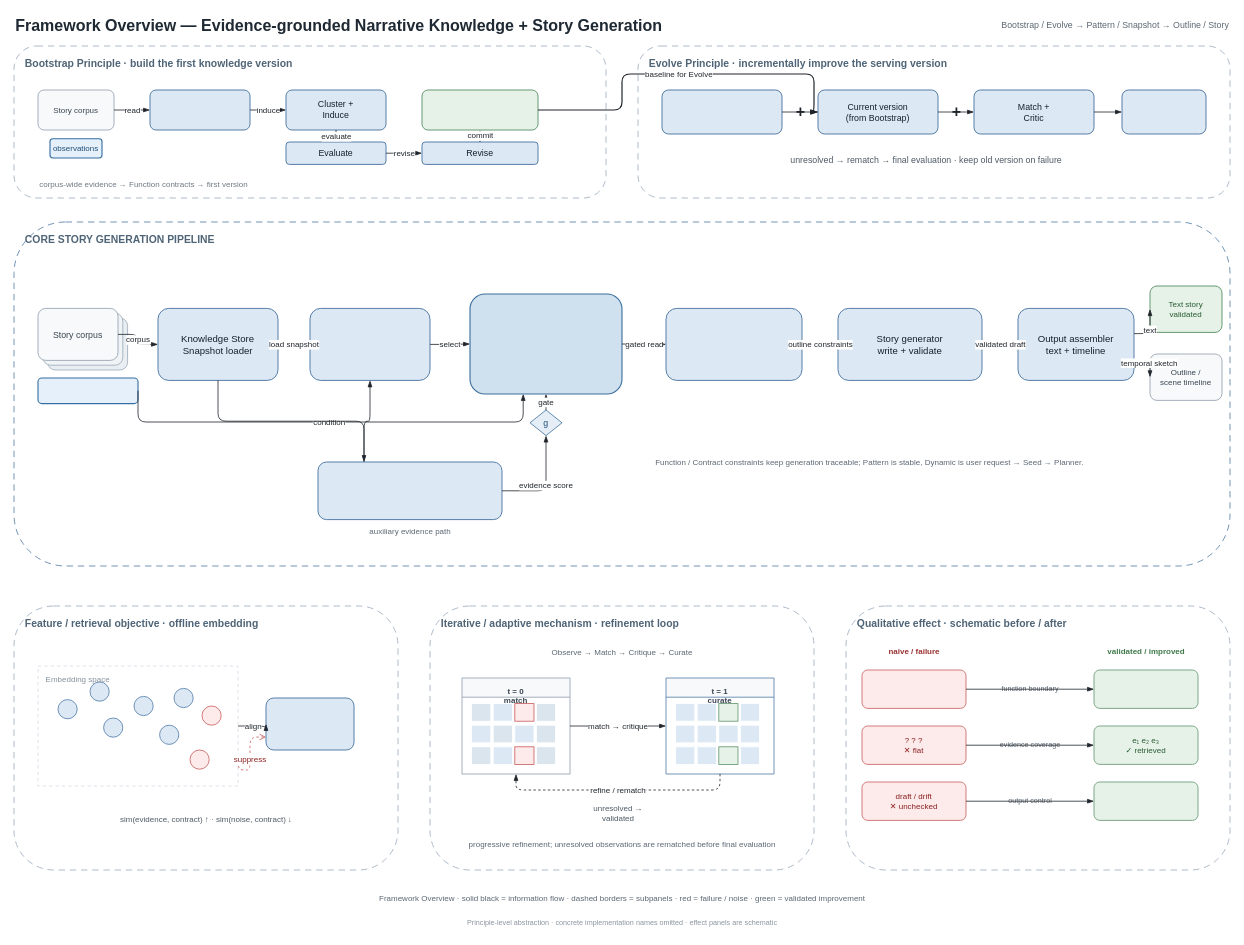
Some shapes in this 1244 by 945 pixel diagram are drawn without their labels. The centre of each missing label's shape, as x and y in pixels:
"A | B | C ✕ split" belongs at pixel 913 688.
"A → B → C ✓ coherent" belongs at pixel 1145 688.
"Bootstrap Snapshot" belongs at pixel 479 109.
"Curate → New Snapshot" belongs at pixel 1163 111.
"Evidence encoder vector retrieval" belongs at pixel 409 490.
"Function contract" belongs at pixel 309 723.
"Mode Router / Controller Published | Dynamic selective read" belongs at pixel 545 343.
"New stories + observations" belongs at pixel 721 111.
"Observe" belongs at pixel 199 109.
"Pattern selector published structure" belongs at pixel 369 344.
"Seed + Planner Function constraints" belongs at pixel 733 344.
"story + outline ✓ validated" belongs at pixel 1145 800.
"◆ user request / condition" belongs at pixel 87 390.
